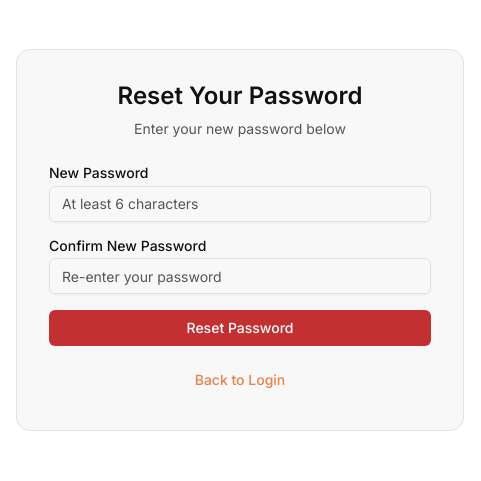
reset password page › keeps Supabase password update errors visible
expect the heading "Reset Your Password" is shown: met, box [118,81,362,110]
Type "password123" into the password field with placeholder "At least 6 characters".
click(240, 204); type("password123")  # box [49,186,431,222]
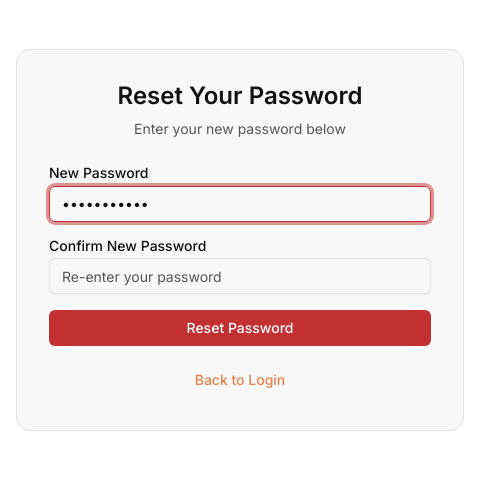
Type "password123" into the password field with placeholder "Re-enter your password".
click(240, 276); type("password123")  # box [49,258,431,294]
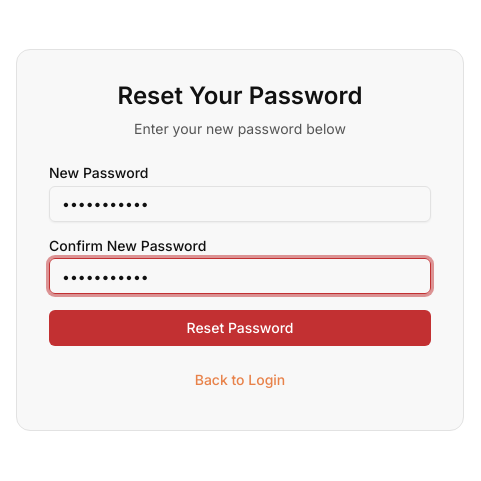
Click the button "Reset Password".
click(240, 328)  # box [49,310,431,346]
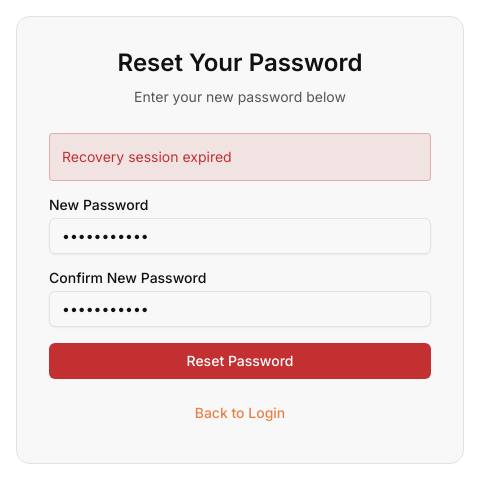
expect the text "Recovery session expired" is shown: met, box [49,133,431,181]
